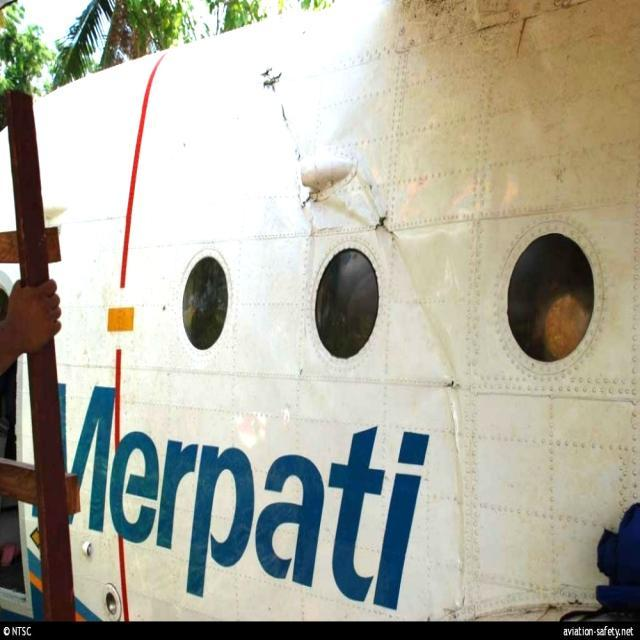crack: (258, 66, 305, 158), (377, 210, 400, 241)
